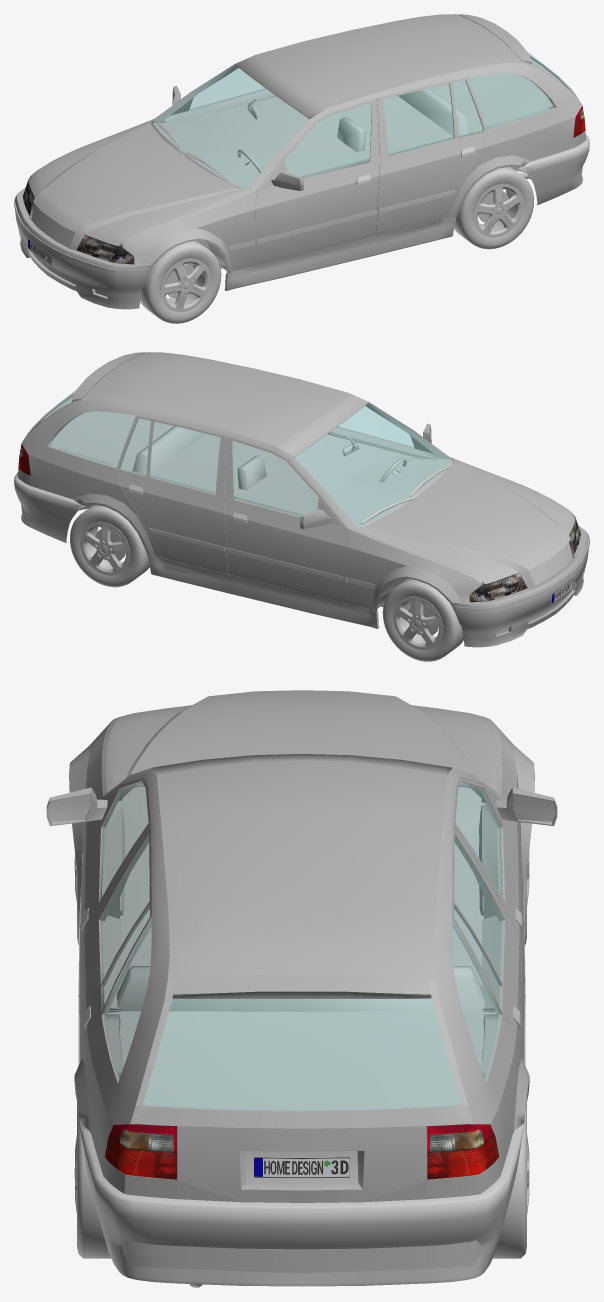
Rendered from car.fbx.
3 renders of one model, top to bottom at view 1: azimuth 30°, elevation 25°; view 2: azimuth 150°, elevation 25°; view 3: azimuth 270°, elevation 25°, orthographic. The views are drawn at different scales.
Visible parts, largest first — view 1: cars.001; view 2: cars.001; view 3: cars.001.
Part boxes in pixels (x1,y1,x2,y2): cars.001: [14, 14, 589, 323]; cars.001: [14, 352, 589, 661]; cars.001: [46, 690, 557, 1287].
Size of the model in its own units: 6.37 by 2.02 by 2.73.
